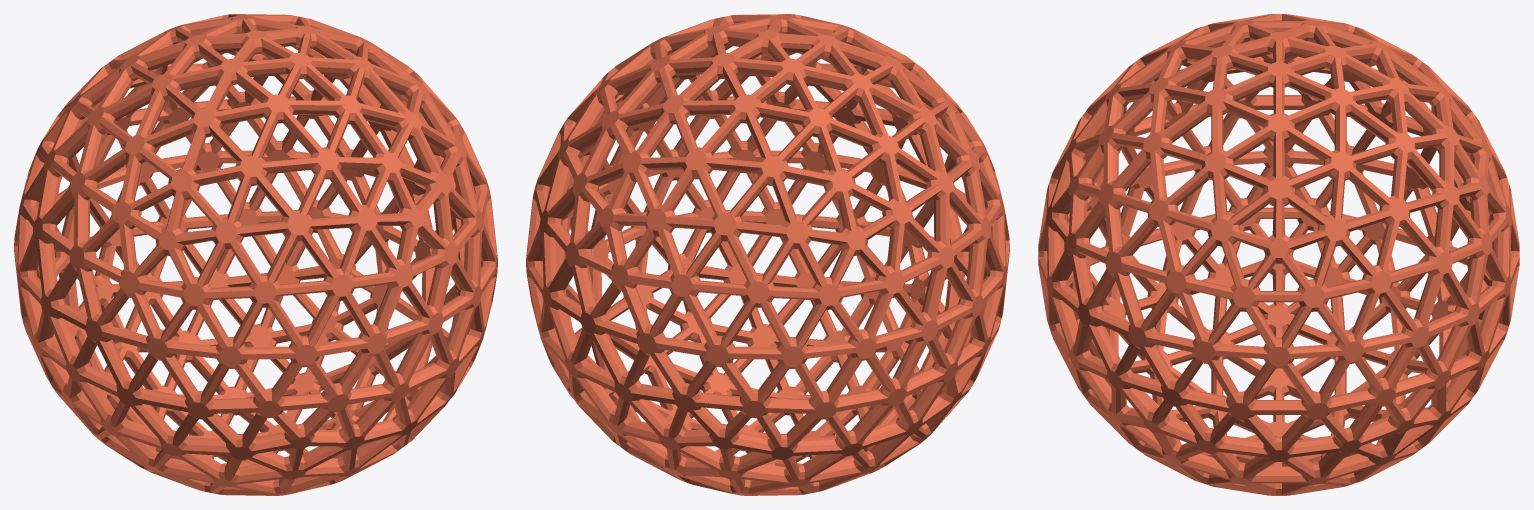
The model's file is ball.gltf.
3 renders of one model, left to right at view 1: azimuth 30°, elevation 25°; view 2: azimuth 150°, elevation 25°; view 3: azimuth 270°, elevation 25°, orthographic.
Parts seen in each view (by area): view 1: Icosphere; view 2: Icosphere; view 3: Icosphere.
Part boxes in pixels (left/top/right/bottom): Icosphere: left=14, top=14, right=497, bottom=495; Icosphere: left=526, top=14, right=1009, bottom=495; Icosphere: left=1038, top=14, right=1519, bottom=495.
Size of the model in its own units: 8.21 by 8.24 by 8.21.
